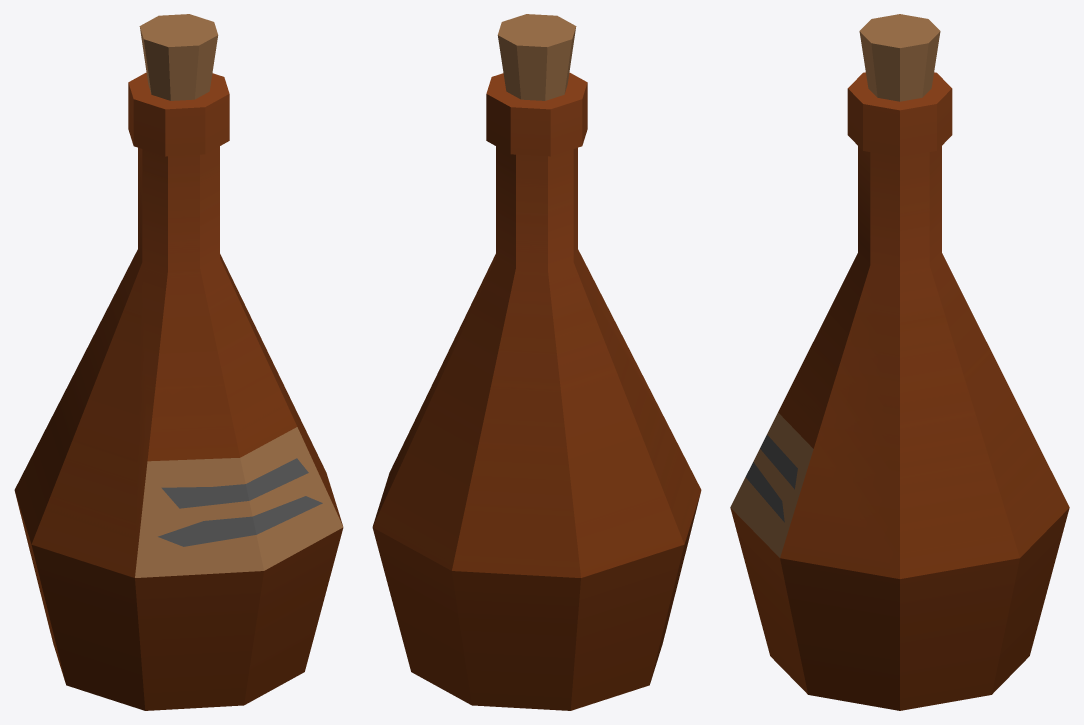
Rendered from Potion_12.glb.
The picture shows the model from 3 angles, left to right: view 1: azimuth 30°, elevation 25°; view 2: azimuth 150°, elevation 25°; view 3: azimuth 270°, elevation 25°; orthographic projection.
Visible parts, largest first — view 1: Potion_12_LOD0; view 2: Potion_12_LOD0; view 3: Potion_12_LOD0.
Boxes of the visible parts, x1=… form: Potion_12_LOD0: x1=14, y1=14, x2=343, y2=710; Potion_12_LOD0: x1=372, y1=14, x2=701, y2=710; Potion_12_LOD0: x1=730, y1=14, x2=1069, y2=710.
Size of what is drawn, in the model's own units: 0.0783 by 0.1624 by 0.0783.
Materials: 1 (1 with a texture image).
